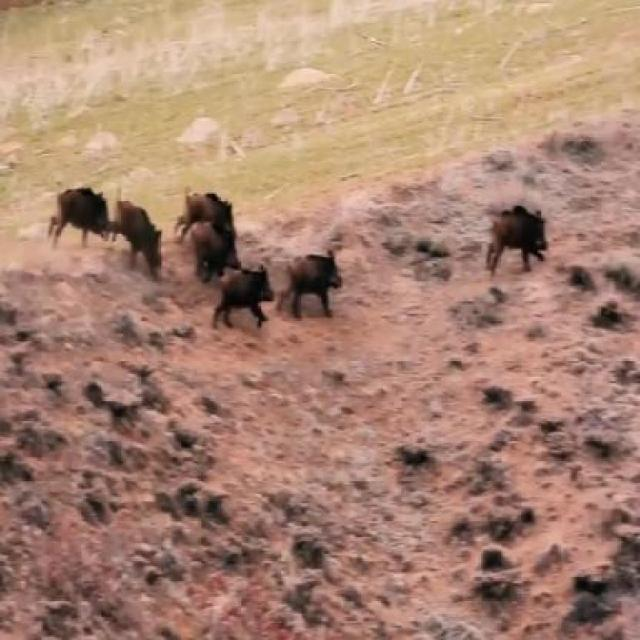pig: (466, 188, 559, 294), (120, 180, 172, 274), (48, 179, 113, 253), (301, 220, 347, 319), (224, 248, 274, 332), (188, 219, 244, 263), (203, 180, 247, 235)
